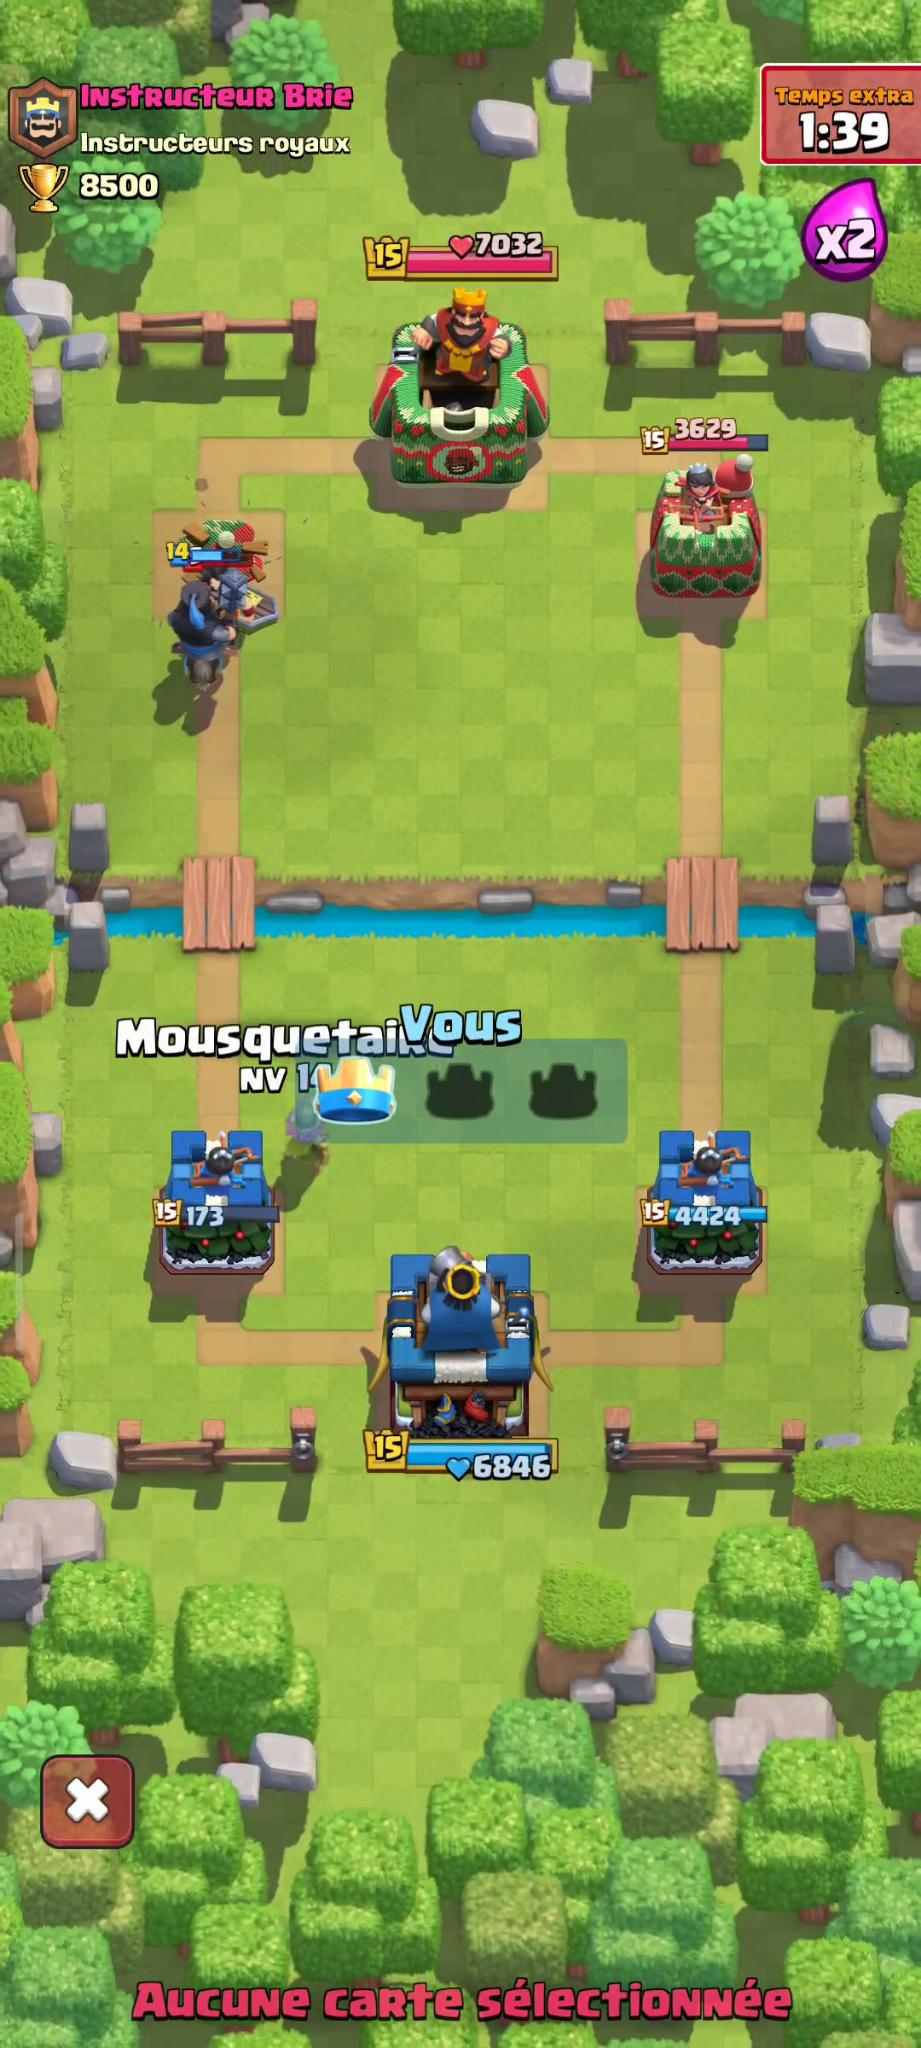mousquetaire: (282, 1085, 344, 1179)
